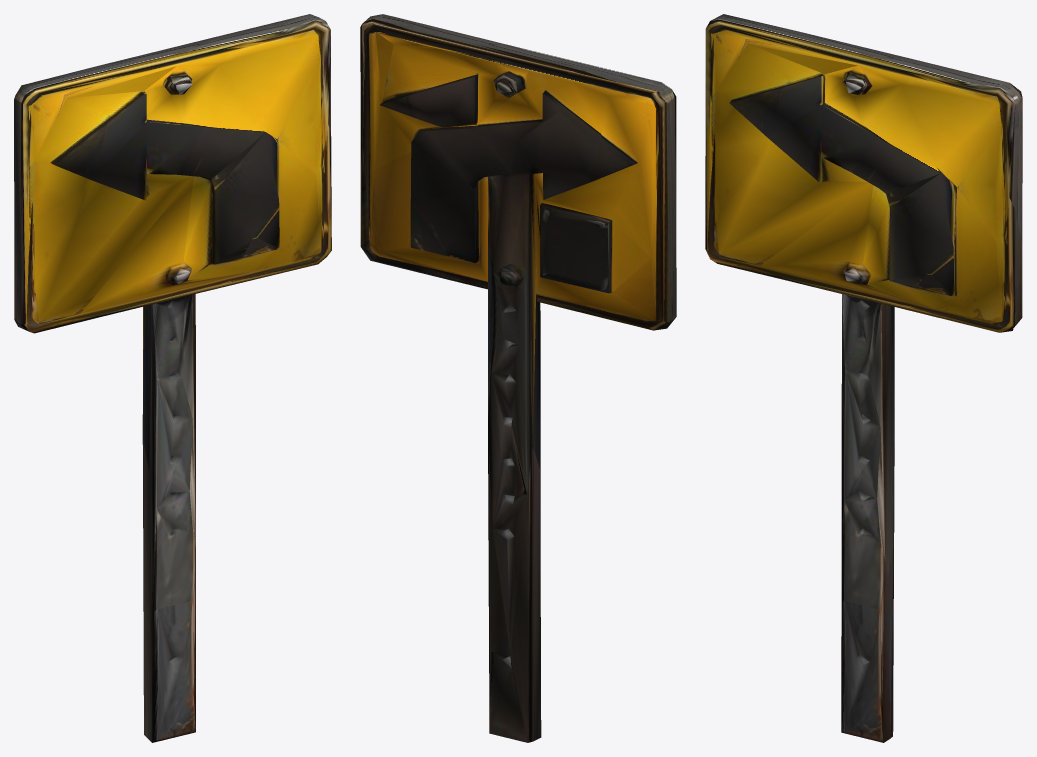
Rendered from sign.glb.
The picture shows the model from 3 angles, left to right: view 1: azimuth 30°, elevation 25°; view 2: azimuth 150°, elevation 25°; view 3: azimuth 330°, elevation 25°; orthographic projection.
Parts seen in each view (by area): view 1: SignMesh; view 2: SignMesh; view 3: SignMesh.
Boxes of the visible parts, box(x1,y1,x2,y2) form: SignMesh: box(14, 14, 331, 742); SignMesh: box(360, 14, 676, 742); SignMesh: box(705, 14, 1022, 742).
Size of the model in its own units: 1 by 2.11 by 0.1553.
1 material, 1 textured.
